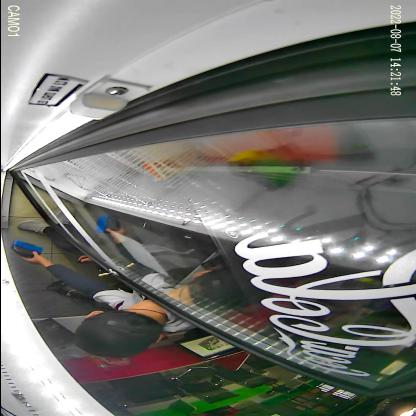blue: (10, 241, 43, 257)
